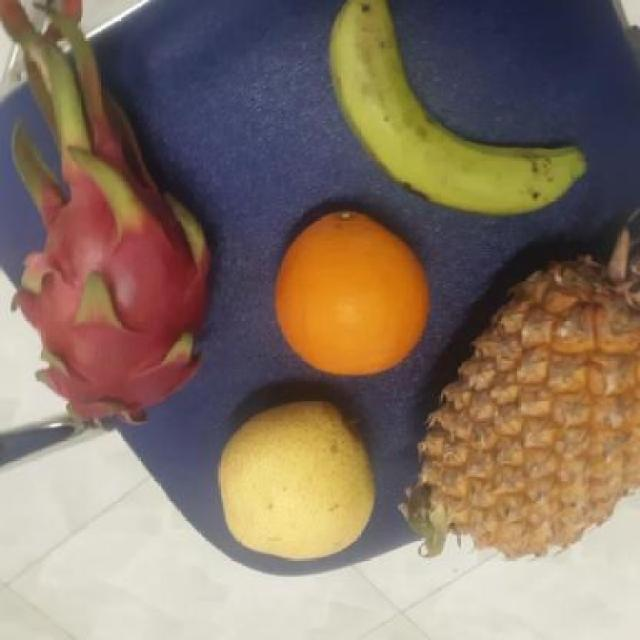banana: (322, 0, 582, 215)
dragon fruit: (18, 171, 212, 425)
oren: (265, 211, 429, 380)
pear: (212, 403, 379, 563)
pineapple: (415, 250, 640, 564)
